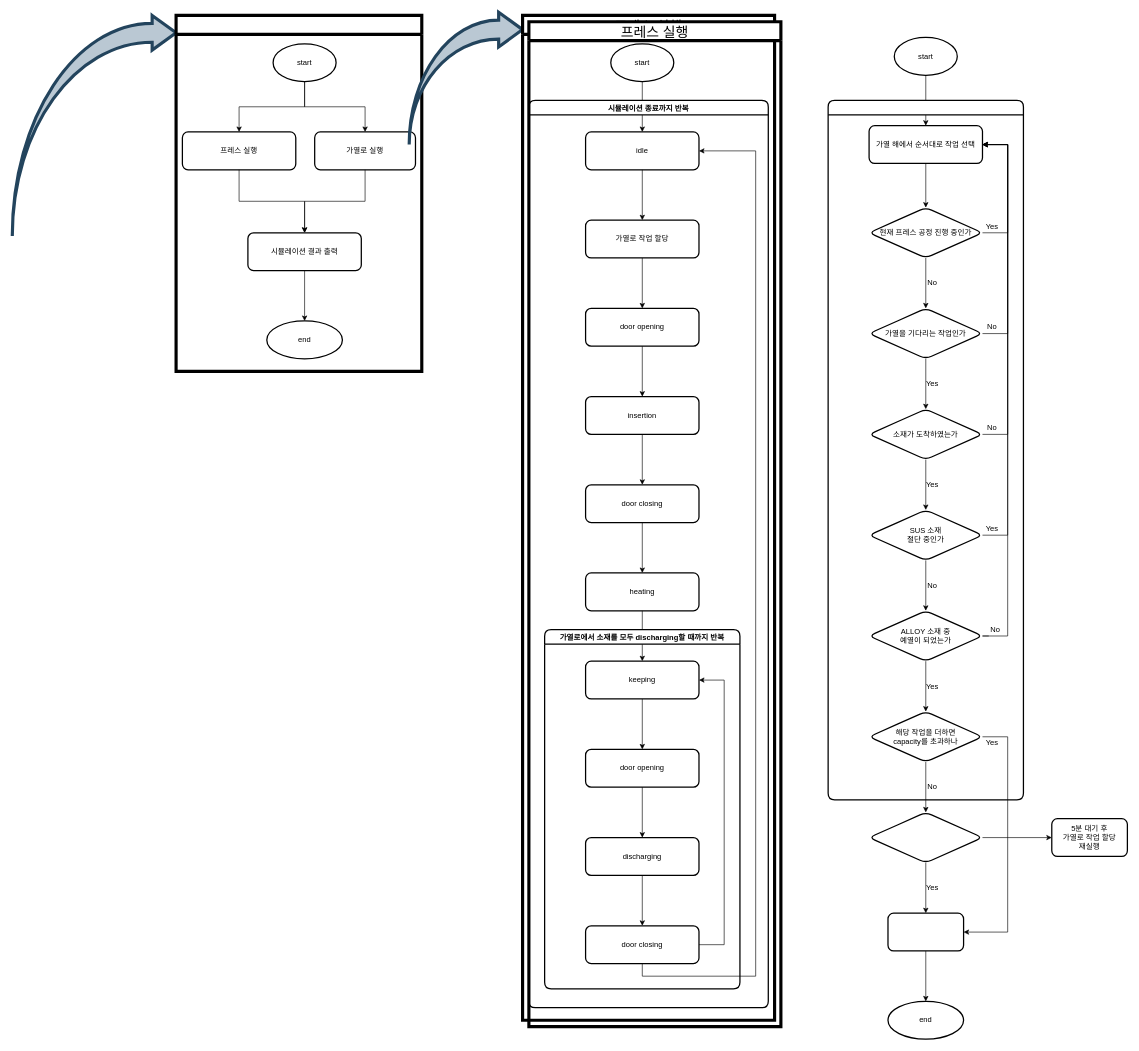
This 1139x1051 diagram has some shape labels left out. The box of each missing label's shape, as (x1, y1, x2, y2) in pixels:
시뮬레이션: (174, 14, 423, 373)
작업 할당: (887, 912, 964, 951)
할당 받은 작업이 capacity의 50% 이상인가: (868, 811, 983, 863)
해를 모두 볼 때까지 반복: (827, 100, 1024, 800)
